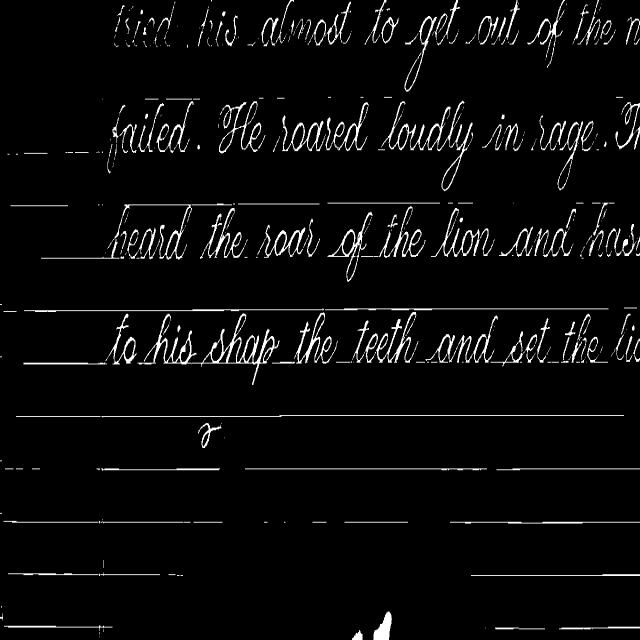hand: (374, 612, 392, 639), (352, 631, 362, 639)
noise: (16, 413, 624, 420), (23, 307, 610, 313), (7, 560, 186, 577), (240, 466, 640, 473), (492, 624, 640, 636), (125, 203, 322, 211), (470, 568, 640, 577), (449, 517, 640, 525), (2, 518, 224, 524), (4, 624, 112, 633), (94, 466, 222, 473), (10, 204, 68, 219), (326, 202, 442, 208), (342, 518, 409, 524), (6, 150, 103, 154), (262, 513, 290, 526), (21, 362, 106, 366), (40, 256, 112, 260), (0, 303, 16, 315), (4, 466, 42, 471), (164, 96, 200, 101), (614, 93, 630, 103), (590, 203, 614, 209), (311, 518, 329, 524), (360, 254, 380, 259), (446, 203, 473, 206), (277, 360, 294, 364), (145, 96, 162, 99), (576, 201, 584, 206), (384, 95, 392, 99), (624, 306, 637, 308), (276, 97, 284, 99), (360, 96, 364, 99), (258, 97, 264, 99), (328, 96, 331, 99)
not-noise: (418, 314, 606, 364), (380, 101, 472, 190), (200, 313, 279, 385), (404, 0, 460, 90), (110, 99, 194, 159), (273, 101, 369, 152), (531, 116, 596, 189), (248, 0, 351, 46), (108, 204, 192, 259), (338, 312, 419, 363), (501, 209, 576, 257), (138, 313, 204, 364), (580, 203, 640, 256), (432, 207, 494, 257), (328, 212, 372, 281), (114, 3, 179, 47), (220, 100, 272, 151), (527, 0, 566, 67), (377, 206, 425, 258), (218, 100, 265, 153), (200, 206, 247, 259), (292, 312, 339, 364), (258, 219, 320, 258), (466, 0, 520, 44), (572, 0, 615, 44), (106, 314, 139, 364), (198, 5, 238, 46), (482, 114, 524, 151), (106, 314, 136, 364), (610, 313, 640, 362), (366, 0, 399, 44), (616, 101, 640, 148), (107, 113, 120, 173), (198, 423, 221, 448), (625, 16, 640, 44), (492, 124, 518, 140), (120, 123, 136, 138), (604, 141, 606, 147), (198, 144, 200, 149)
